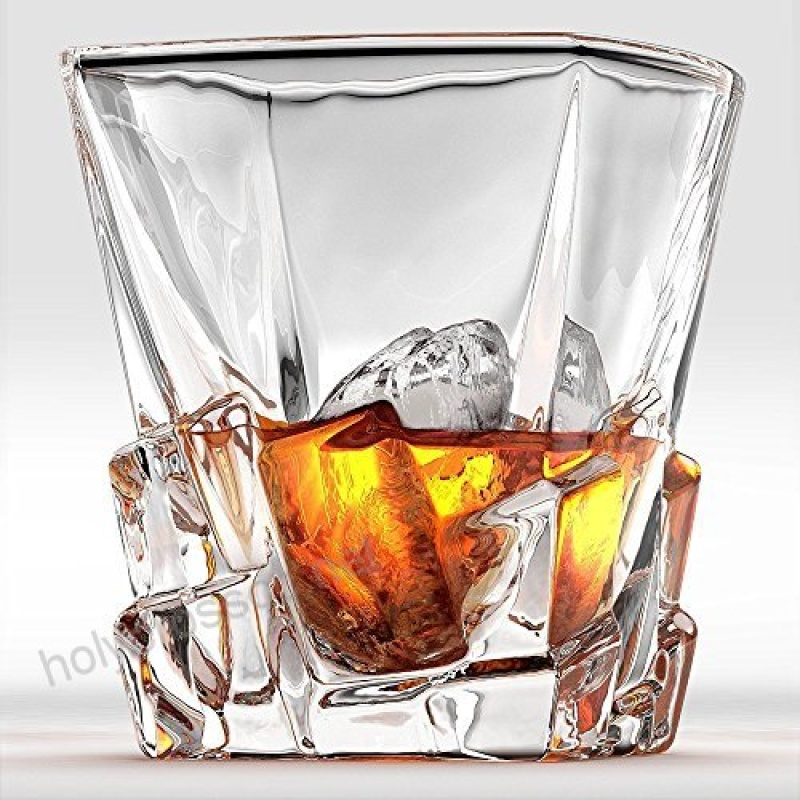whiskey: (53, 31, 743, 761)
